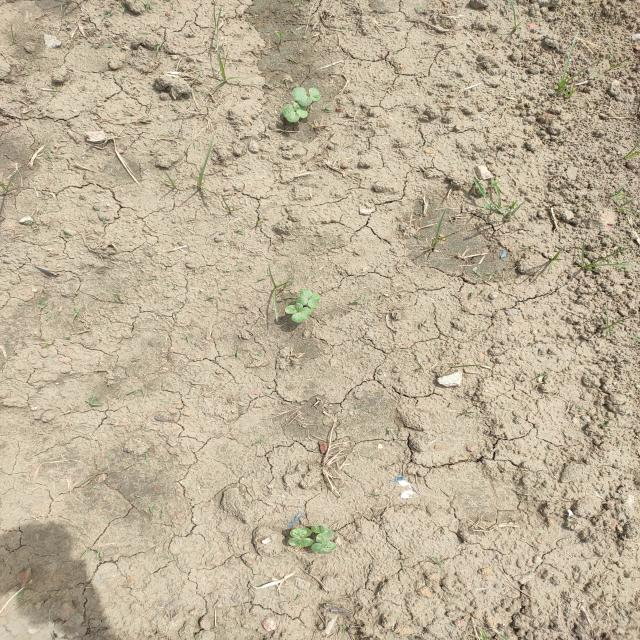seedling_s2: (292, 87, 312, 106), (311, 540, 336, 554), (282, 104, 300, 123), (292, 307, 312, 323), (296, 289, 312, 306), (293, 101, 308, 118), (288, 538, 314, 547), (316, 530, 333, 543), (307, 293, 321, 308), (290, 528, 311, 538), (285, 303, 303, 314), (308, 87, 321, 102), (311, 525, 328, 533)
